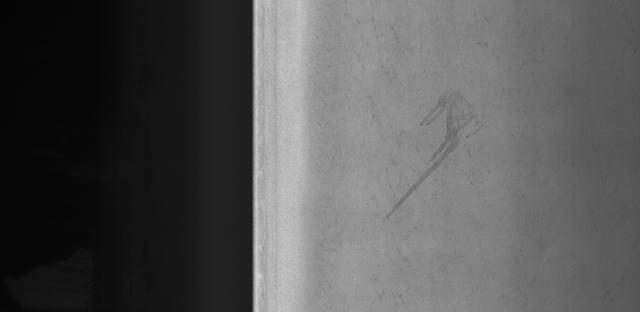water_spot: (376, 80, 501, 230)
